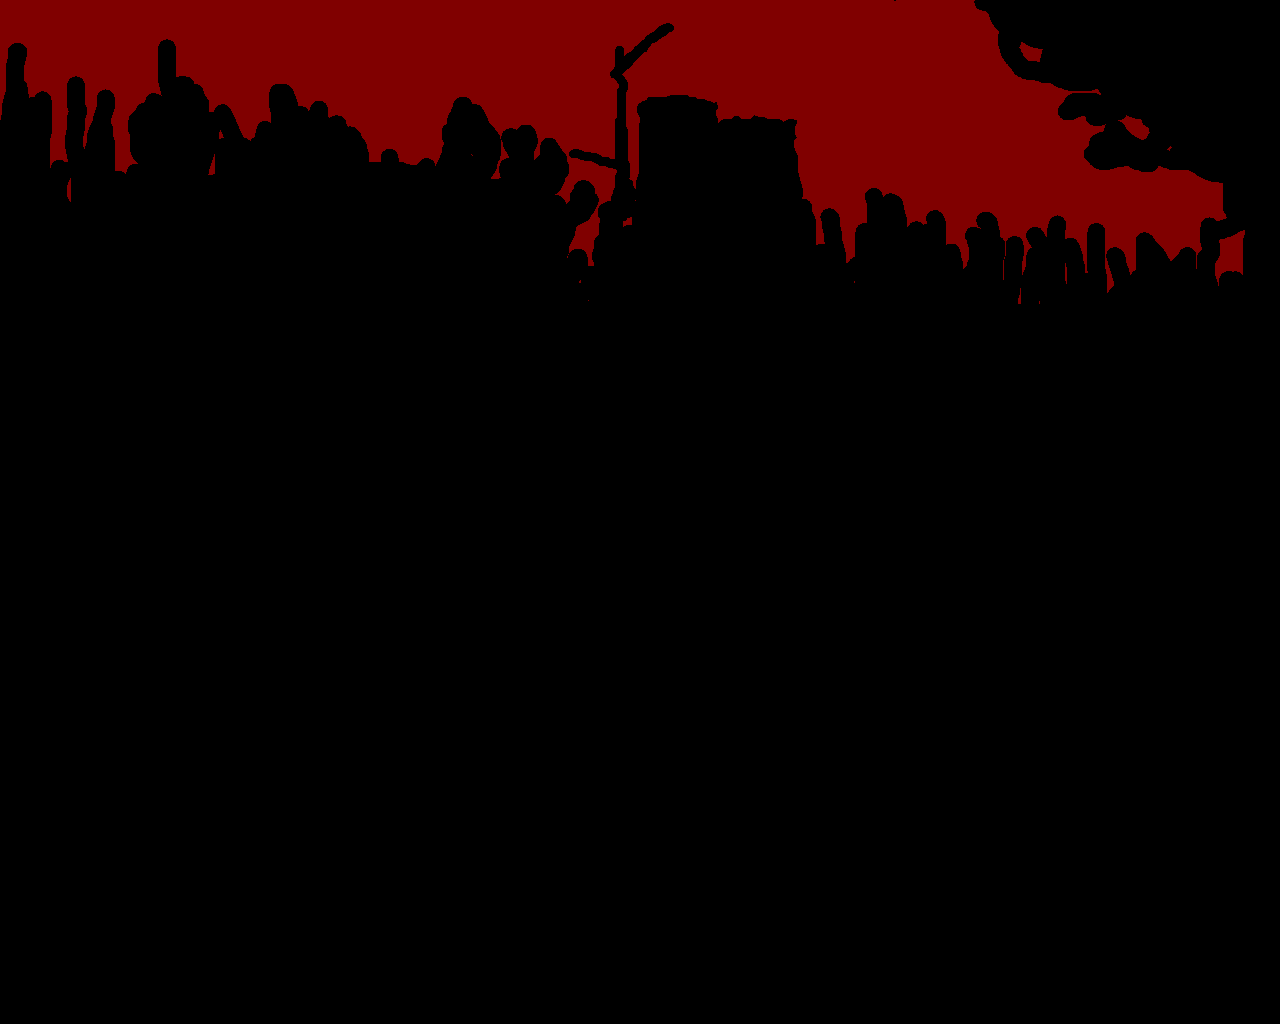Sky: (1, 1, 1244, 304)
